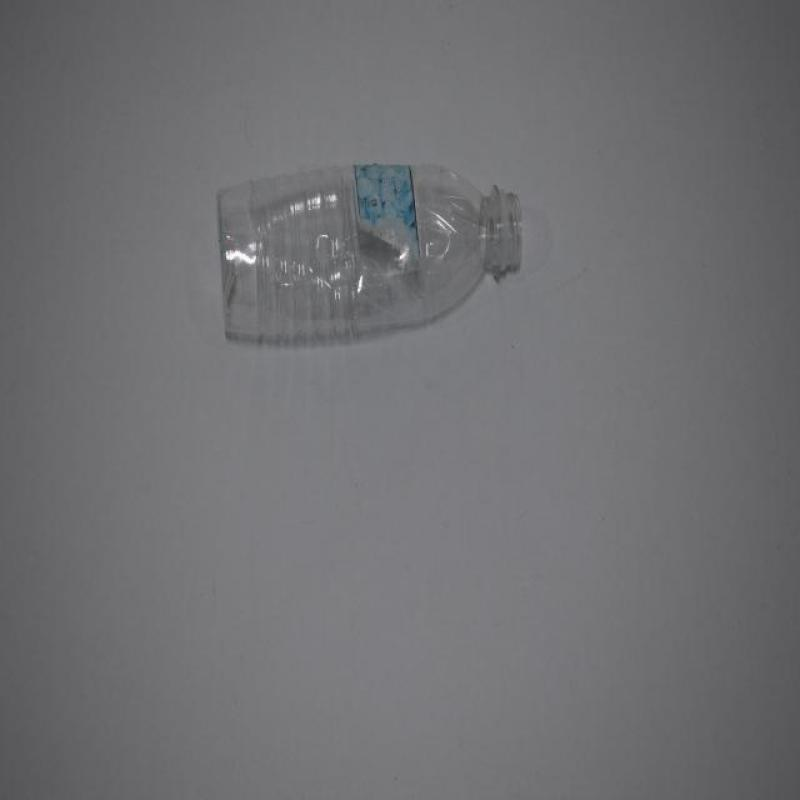botella: (214, 158, 522, 347)
